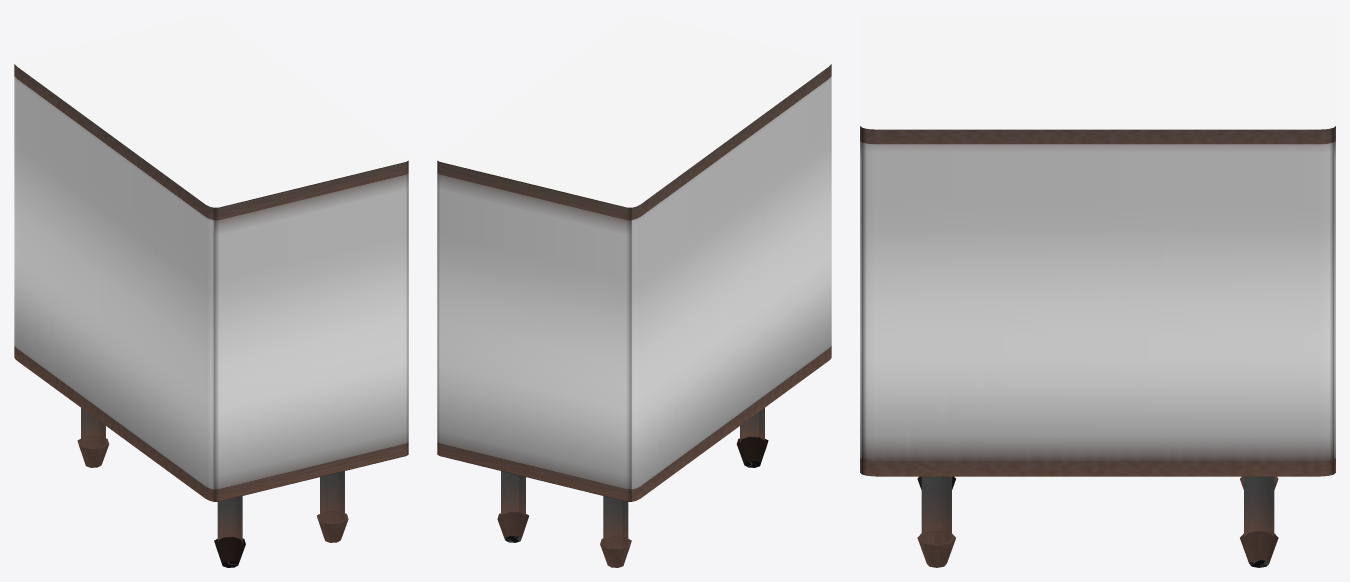
Rendered from MalaLadaSklep.gltf.
3 views of the same model, side by side, from view 1: azimuth 30°, elevation 25°; view 2: azimuth 150°, elevation 25°; view 3: azimuth 270°, elevation 25° (orthographic). The views are drawn at different scales.
Visible parts, largest first — view 1: Cube.001; view 2: Cube.001; view 3: Cube.001.
Part boxes in pixels (left/top/right/bottom): Cube.001: left=14, top=14, right=408, bottom=567; Cube.001: left=437, top=14, right=831, bottom=567; Cube.001: left=860, top=14, right=1335, bottom=567.
Bounding box in the file's own units: 0.5935 × 1.11 × 1.03.
7 materials, 6 textured.
